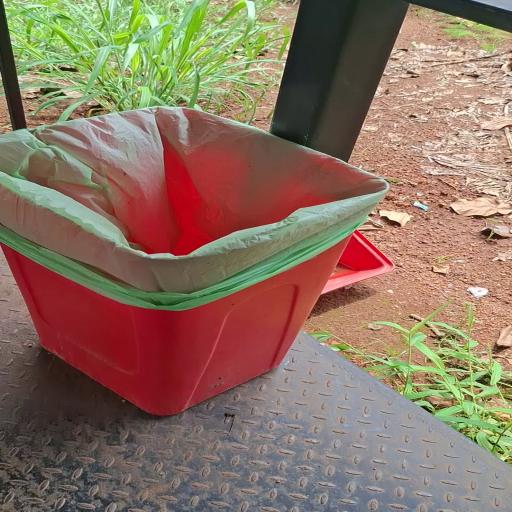Nilkamal-dustbin-detection: (0, 107, 387, 414)
